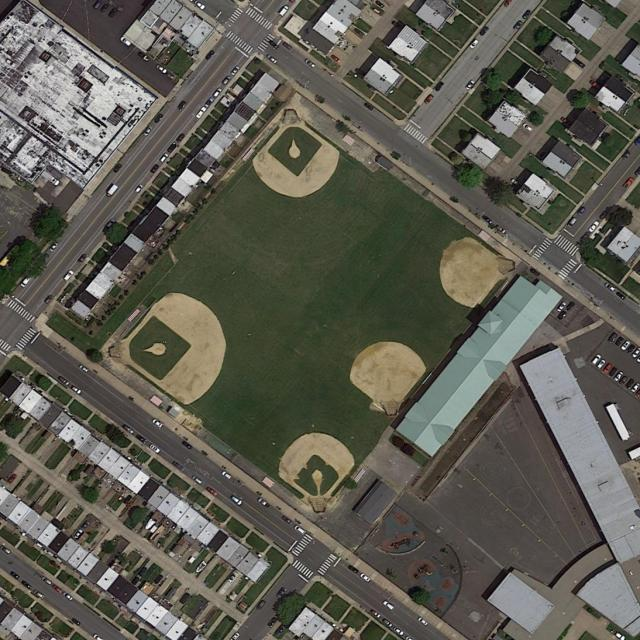large-vehicle: (40, 170, 61, 187), (45, 164, 64, 180), (105, 184, 119, 199)
ship: (194, 560, 208, 575), (143, 518, 157, 532)
small-vehicle: (621, 177, 635, 192), (572, 57, 587, 70), (607, 331, 620, 346), (230, 494, 244, 507), (257, 497, 271, 510), (293, 524, 307, 537), (590, 353, 603, 367), (391, 625, 405, 638), (171, 460, 186, 472), (620, 338, 632, 353), (588, 220, 600, 235), (353, 26, 366, 39), (613, 336, 626, 349), (178, 592, 191, 605), (19, 276, 33, 288), (57, 375, 71, 387), (70, 384, 84, 396), (205, 486, 219, 498), (137, 51, 151, 63), (195, 106, 207, 120), (566, 216, 578, 230), (602, 361, 614, 375), (607, 365, 619, 379), (613, 369, 625, 383), (77, 253, 89, 266), (107, 7, 119, 20), (268, 39, 281, 51), (275, 587, 288, 599), (468, 38, 481, 50), (478, 25, 490, 38), (579, 231, 591, 244), (595, 358, 607, 371), (624, 378, 636, 391), (121, 423, 135, 434), (204, 96, 215, 110), (153, 112, 164, 126), (143, 124, 154, 138), (521, 122, 535, 133), (267, 616, 278, 630), (63, 270, 75, 282), (105, 218, 117, 230), (166, 142, 178, 154), (278, 5, 290, 17), (521, 9, 533, 21), (598, 209, 610, 221), (615, 290, 627, 302), (33, 589, 45, 601), (274, 624, 286, 636), (464, 80, 476, 92), (626, 343, 637, 356), (181, 440, 194, 451), (7, 472, 18, 485), (191, 475, 204, 486), (256, 598, 267, 611), (120, 36, 133, 47), (155, 64, 168, 75), (177, 100, 188, 113), (303, 58, 316, 69), (604, 282, 617, 293), (618, 374, 629, 387), (381, 618, 394, 629), (481, 214, 494, 225), (281, 516, 295, 526), (346, 564, 360, 574), (136, 433, 148, 444), (152, 418, 164, 429), (221, 470, 233, 481), (205, 49, 216, 61), (212, 87, 223, 99), (159, 152, 170, 164), (266, 54, 278, 65), (512, 20, 524, 31), (576, 205, 587, 217), (556, 301, 567, 313), (556, 310, 568, 321), (363, 101, 375, 112), (510, 177, 522, 188), (73, 528, 84, 540), (51, 584, 63, 595), (62, 591, 74, 602), (138, 566, 149, 578), (382, 600, 394, 611), (418, 616, 429, 628), (435, 80, 446, 92), (49, 242, 60, 253), (43, 293, 54, 304), (113, 163, 124, 174), (230, 65, 241, 76), (331, 53, 342, 64), (360, 572, 371, 583), (565, 301, 576, 312), (153, 574, 164, 585), (496, 224, 507, 235), (424, 94, 435, 105), (149, 443, 161, 453), (282, 41, 294, 51), (622, 150, 632, 162), (529, 267, 541, 277), (41, 576, 53, 586), (369, 609, 381, 619), (134, 183, 144, 194), (79, 364, 90, 374), (123, 494, 133, 505), (99, 3, 110, 13), (176, 132, 186, 143), (81, 520, 91, 531), (22, 581, 33, 591), (150, 164, 160, 174), (222, 76, 232, 86), (227, 573, 237, 583), (71, 618, 82, 627), (131, 576, 140, 586), (11, 572, 20, 581)
